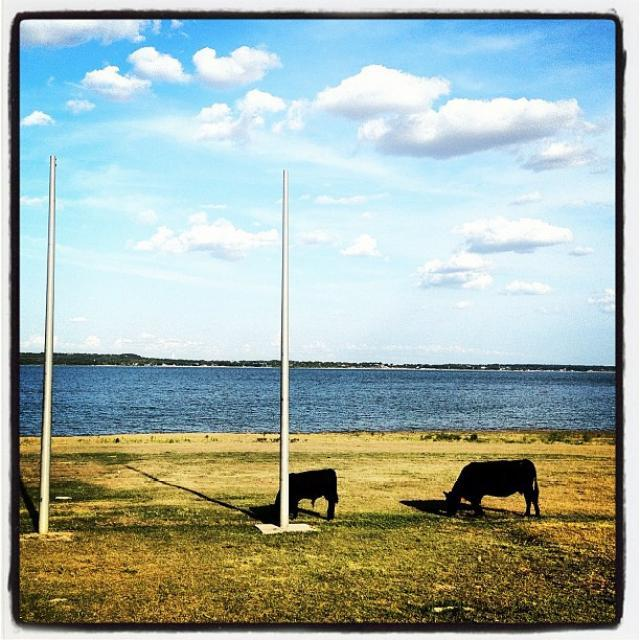cow: (438, 456, 539, 518), (259, 467, 337, 523)
